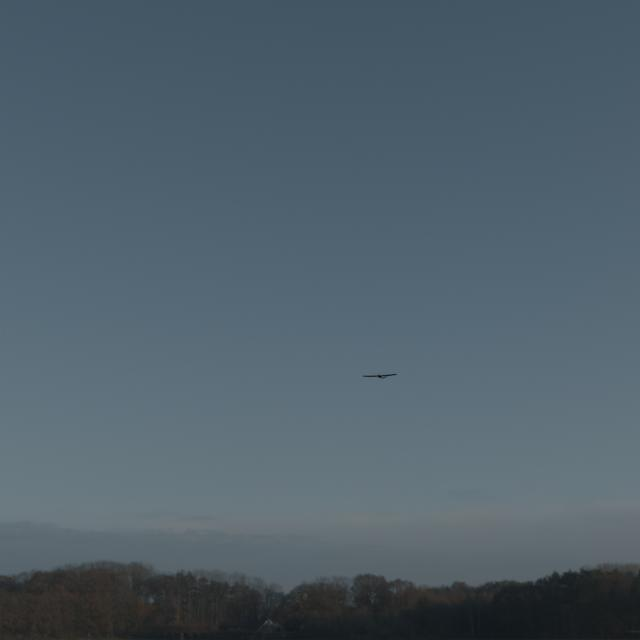Airaplan: (363, 372, 397, 378)
